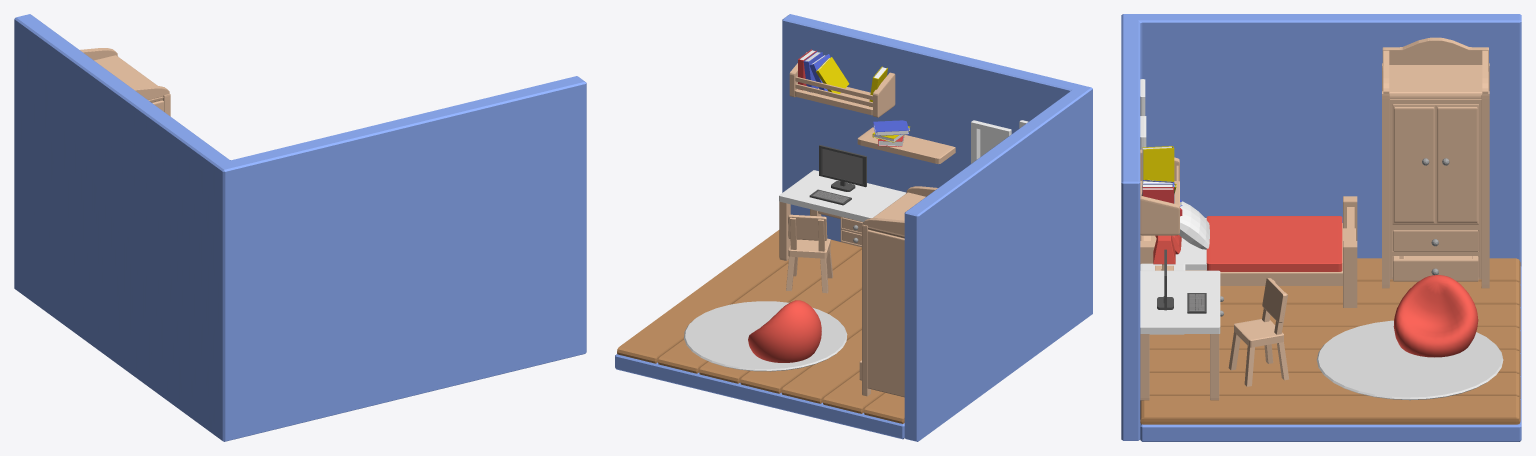
3 views of the same model, side by side, from view 1: azimuth 30°, elevation 25°; view 2: azimuth 150°, elevation 25°; view 3: azimuth 270°, elevation 25° (orthographic). The views are drawn at different scales.
Parts seen in each view (by area): view 1: Wall, Wardrobe 1; view 2: Wall, Wood floor 1, Wardrobe 1, Carpet 1, Floor, Table 1, Seat 1, Wall bookshelf.001, Chair 1, PC 1, Wall shelf.001, Book stack 2.001 (+2 smaller); view 3: Wall, Wood floor 1, Wardrobe 1, Bed 1, Carpet 1, Floor, Table 1, Seat 1, Chair 1, Wall bookshelf.001, Cube.008, Lamp 1 (+2 smaller).
Boxes of the visible parts, bbox=[...] form: Wall: bbox=[14, 14, 586, 441]; Wardrobe 1: bbox=[80, 48, 170, 116]; Wall: bbox=[782, 14, 1092, 441]; Wood floor 1: bbox=[617, 230, 904, 423]; Wardrobe 1: bbox=[859, 186, 937, 397]; Carpet 1: bbox=[684, 301, 847, 371]; Floor: bbox=[615, 354, 904, 439]; Table 1: bbox=[779, 170, 905, 260]; Seat 1: bbox=[748, 300, 821, 362]; Wall bookshelf.001: bbox=[789, 52, 895, 117]; Chair 1: bbox=[786, 214, 833, 293]; PC 1: bbox=[819, 145, 866, 191]; Wall shelf.001: bbox=[857, 127, 955, 163]; Book stack 2.001: bbox=[798, 49, 849, 93]; Wall: bbox=[1121, 14, 1521, 440]; Wood floor 1: bbox=[1140, 258, 1520, 424]; Wardrobe 1: bbox=[1382, 37, 1489, 288]; Bed 1: bbox=[1140, 196, 1357, 307]; Carpet 1: bbox=[1316, 320, 1503, 400]; Floor: bbox=[1140, 266, 1521, 441]; Table 1: bbox=[1140, 270, 1223, 400]; Seat 1: bbox=[1393, 275, 1478, 357]; Chair 1: bbox=[1228, 278, 1289, 386]; Wall bookshelf.001: bbox=[1140, 149, 1179, 235]; Cube.008: bbox=[1142, 146, 1174, 183]; Lamp 1: bbox=[1153, 235, 1175, 270].
Bounding box in the file's own units: 8.4 × 6.03 × 8.4.
